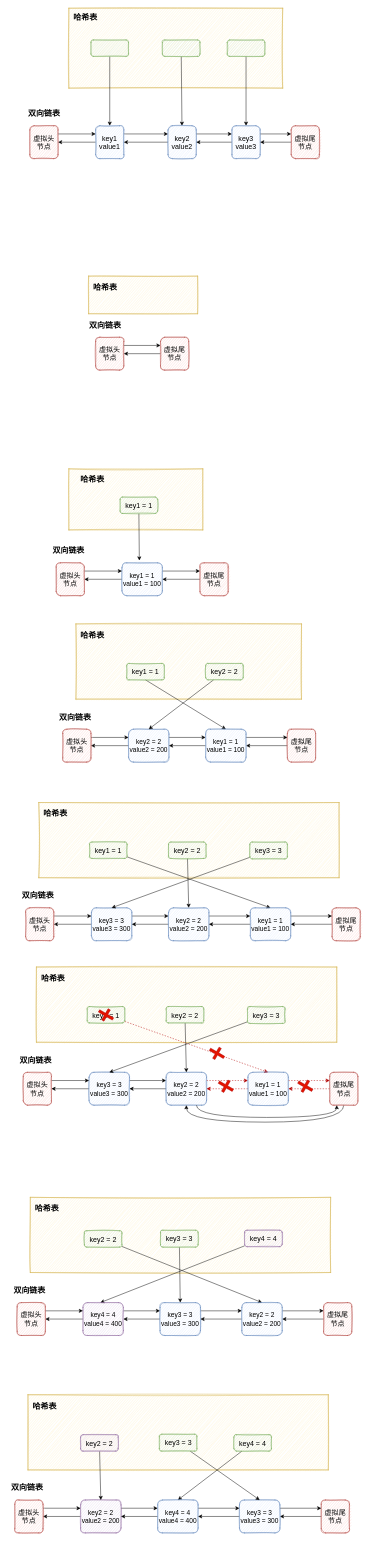
This 368x1541 diagram has some shape labels left out. The centre of each missing label's shape, as x and y in pixels:
key1: the point at 109,47
key2: the point at 181,47
key3: the point at 246,47
